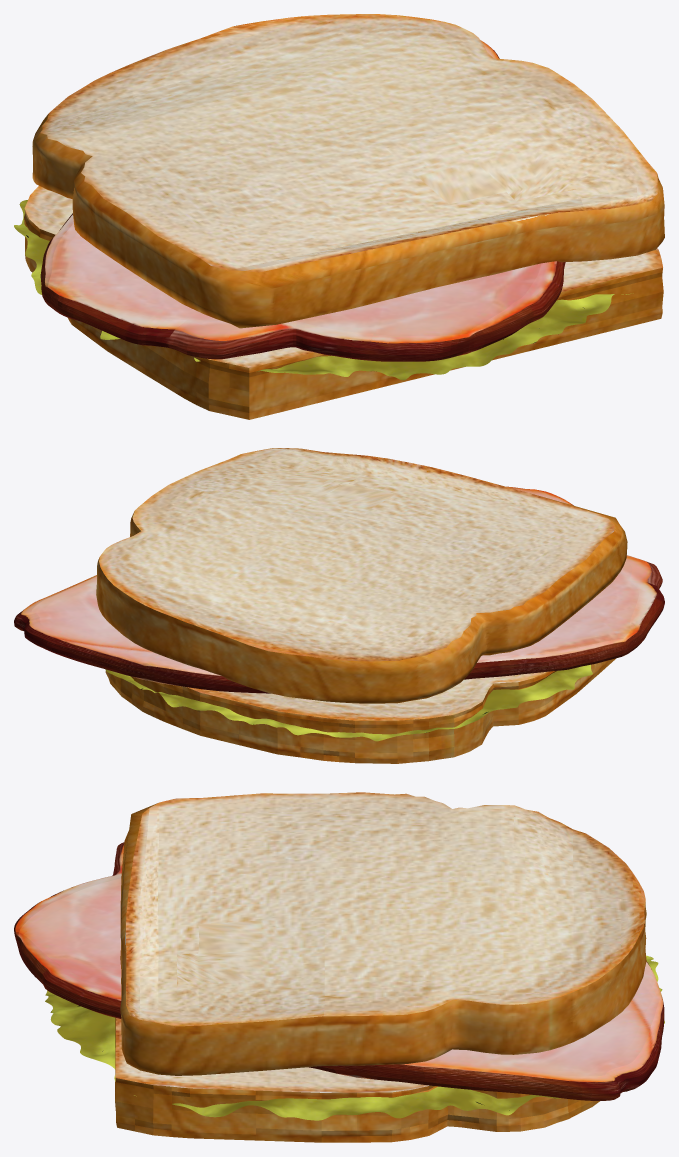
File: Ejercicio_29_BAKE_Sandwich (3).fbx
3 renders of one model, top to bottom at view 1: azimuth 30°, elevation 25°; view 2: azimuth 150°, elevation 25°; view 3: azimuth 270°, elevation 25°, orthographic. The views are drawn at different scales.
Visible parts, largest first — view 1: JAMON; view 2: JAMON; view 3: JAMON.
Boxes of the visible parts, x1=… form: JAMON: x1=14, y1=14, x2=664, y2=419; JAMON: x1=14, y1=448, x2=664, y2=763; JAMON: x1=14, y1=792, x2=664, y2=1142.
Size of the model in its own units: 883 by 193 by 870.
